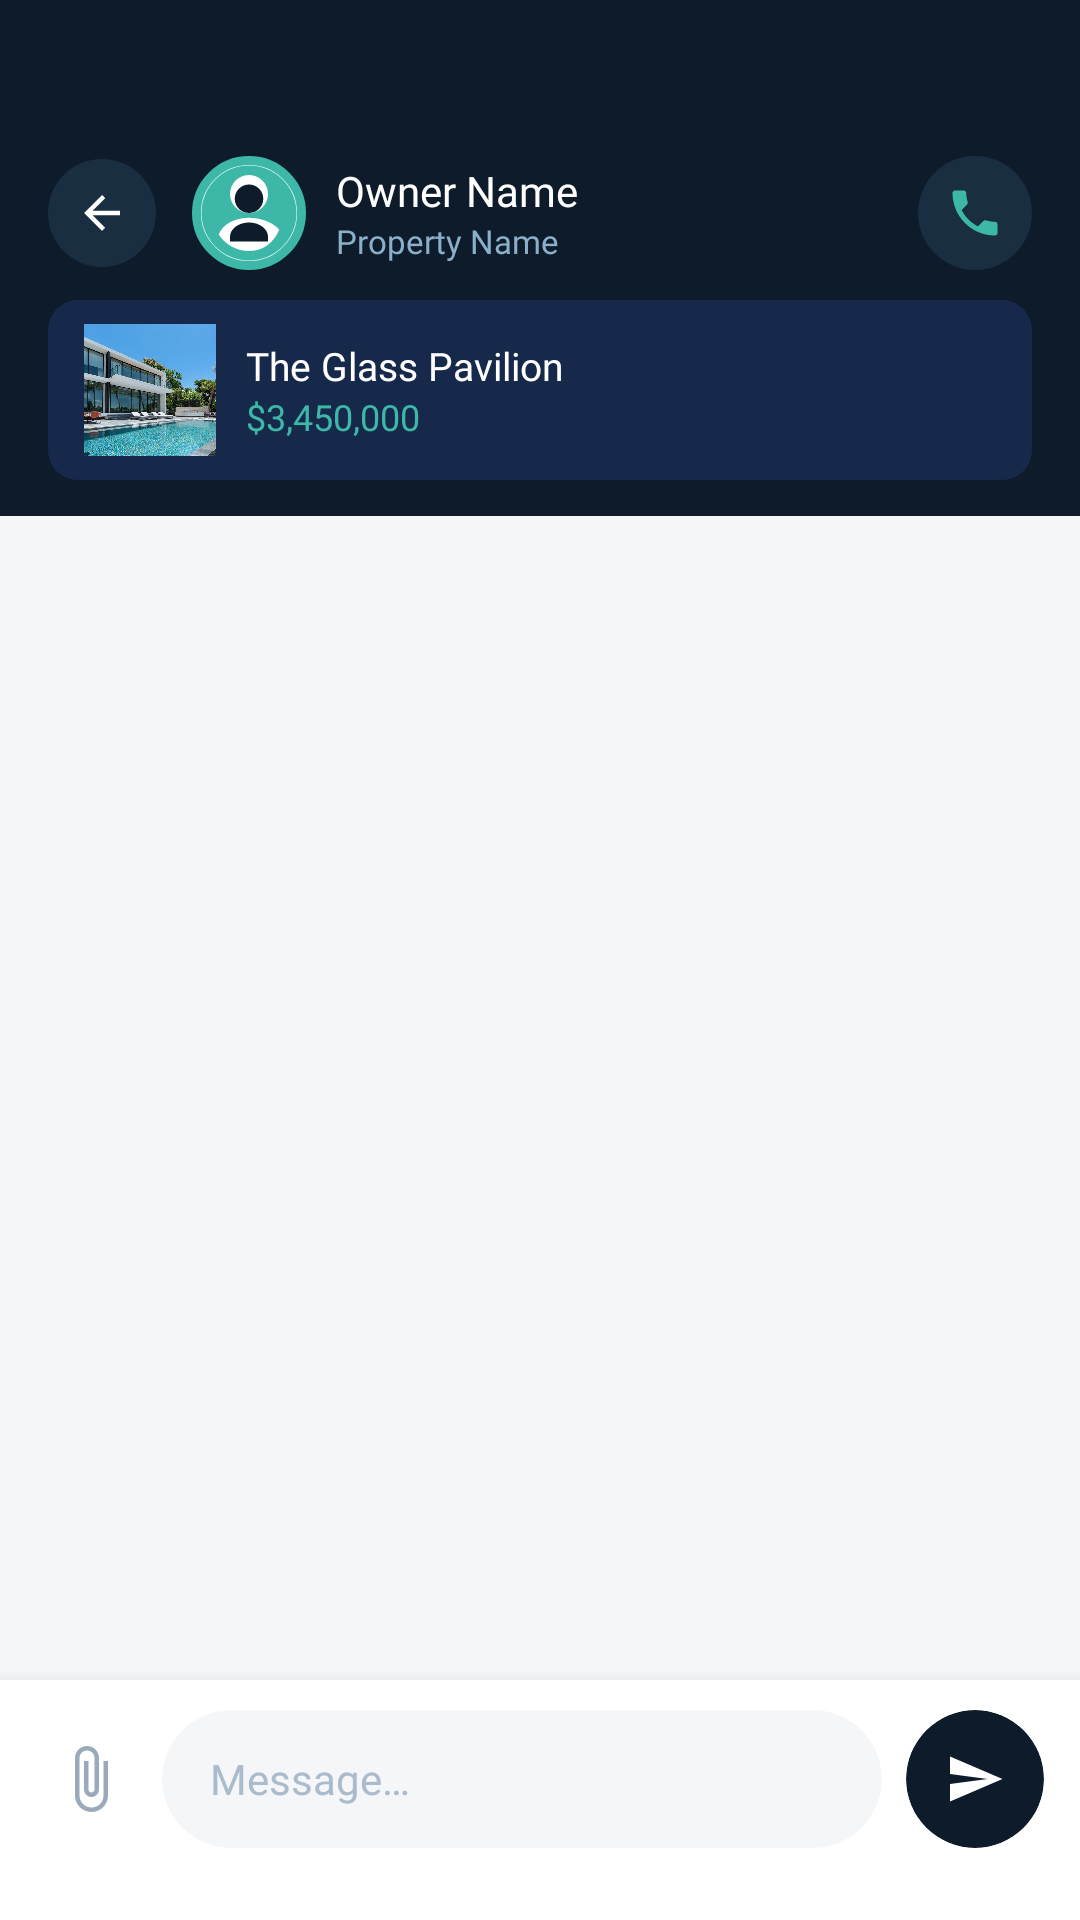

Icon click points for this 1080 x 1920 phone screenshot, format (x,y):
attach: (91,1779)
back: (102,213)
call: (975,213)
send: (976,1779)
